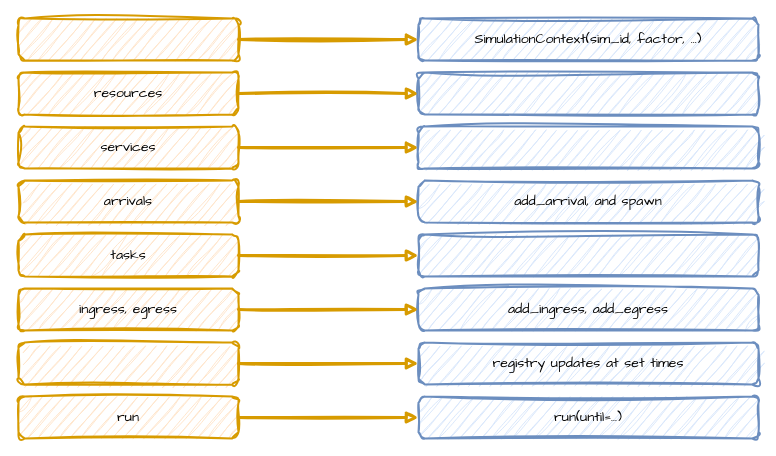
The diagram is 776 pixels wide and 456 high, and some of its shapes have lost their labels. The shapes that lost their labels are listed below. From the top down, each one's centre as x and y in pixels, then its label:
point (128, 39): simulation
point (588, 93): add_resource
point (588, 147): add_service
point (588, 255): @app.task
point (128, 363): scenario
